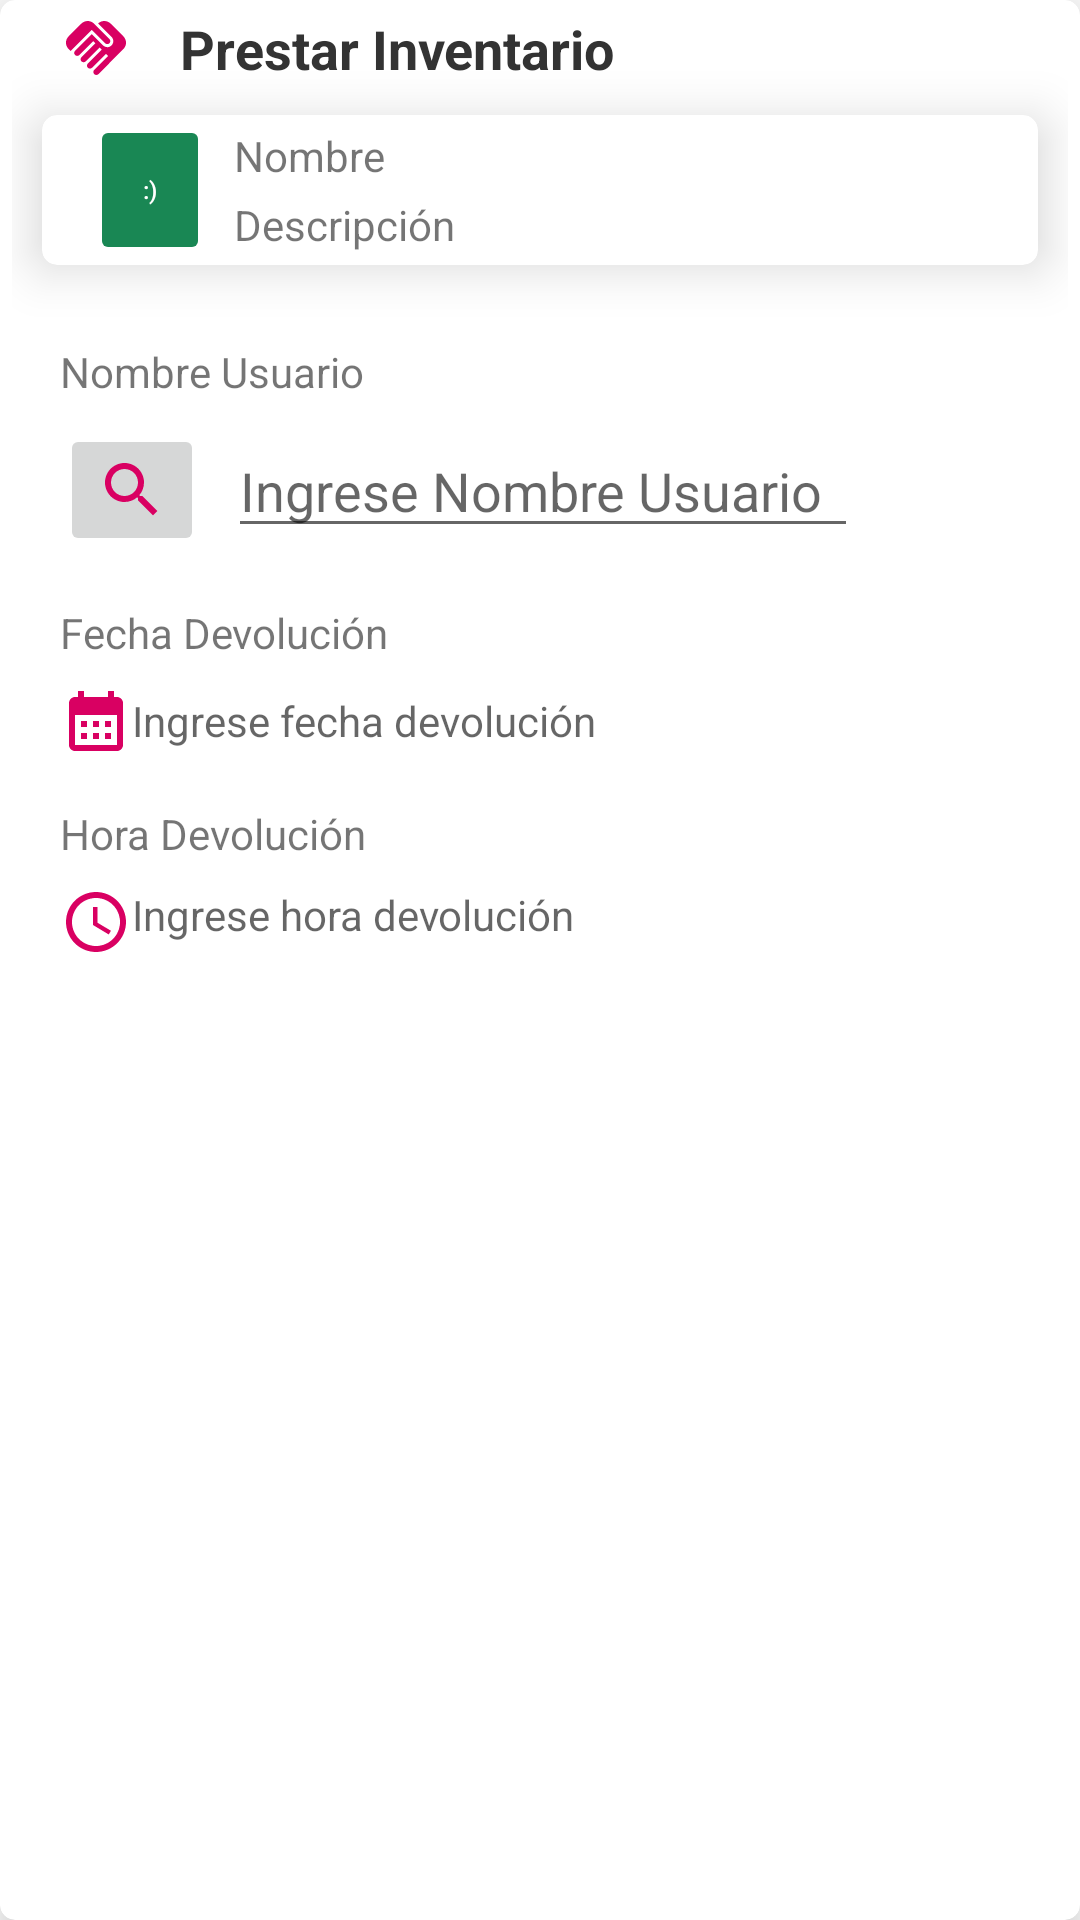

Named icons in this screenshot (1080px x 1920px) and their centers, [x,y]:
handshake first: [96,48]
search first: [132,490]
